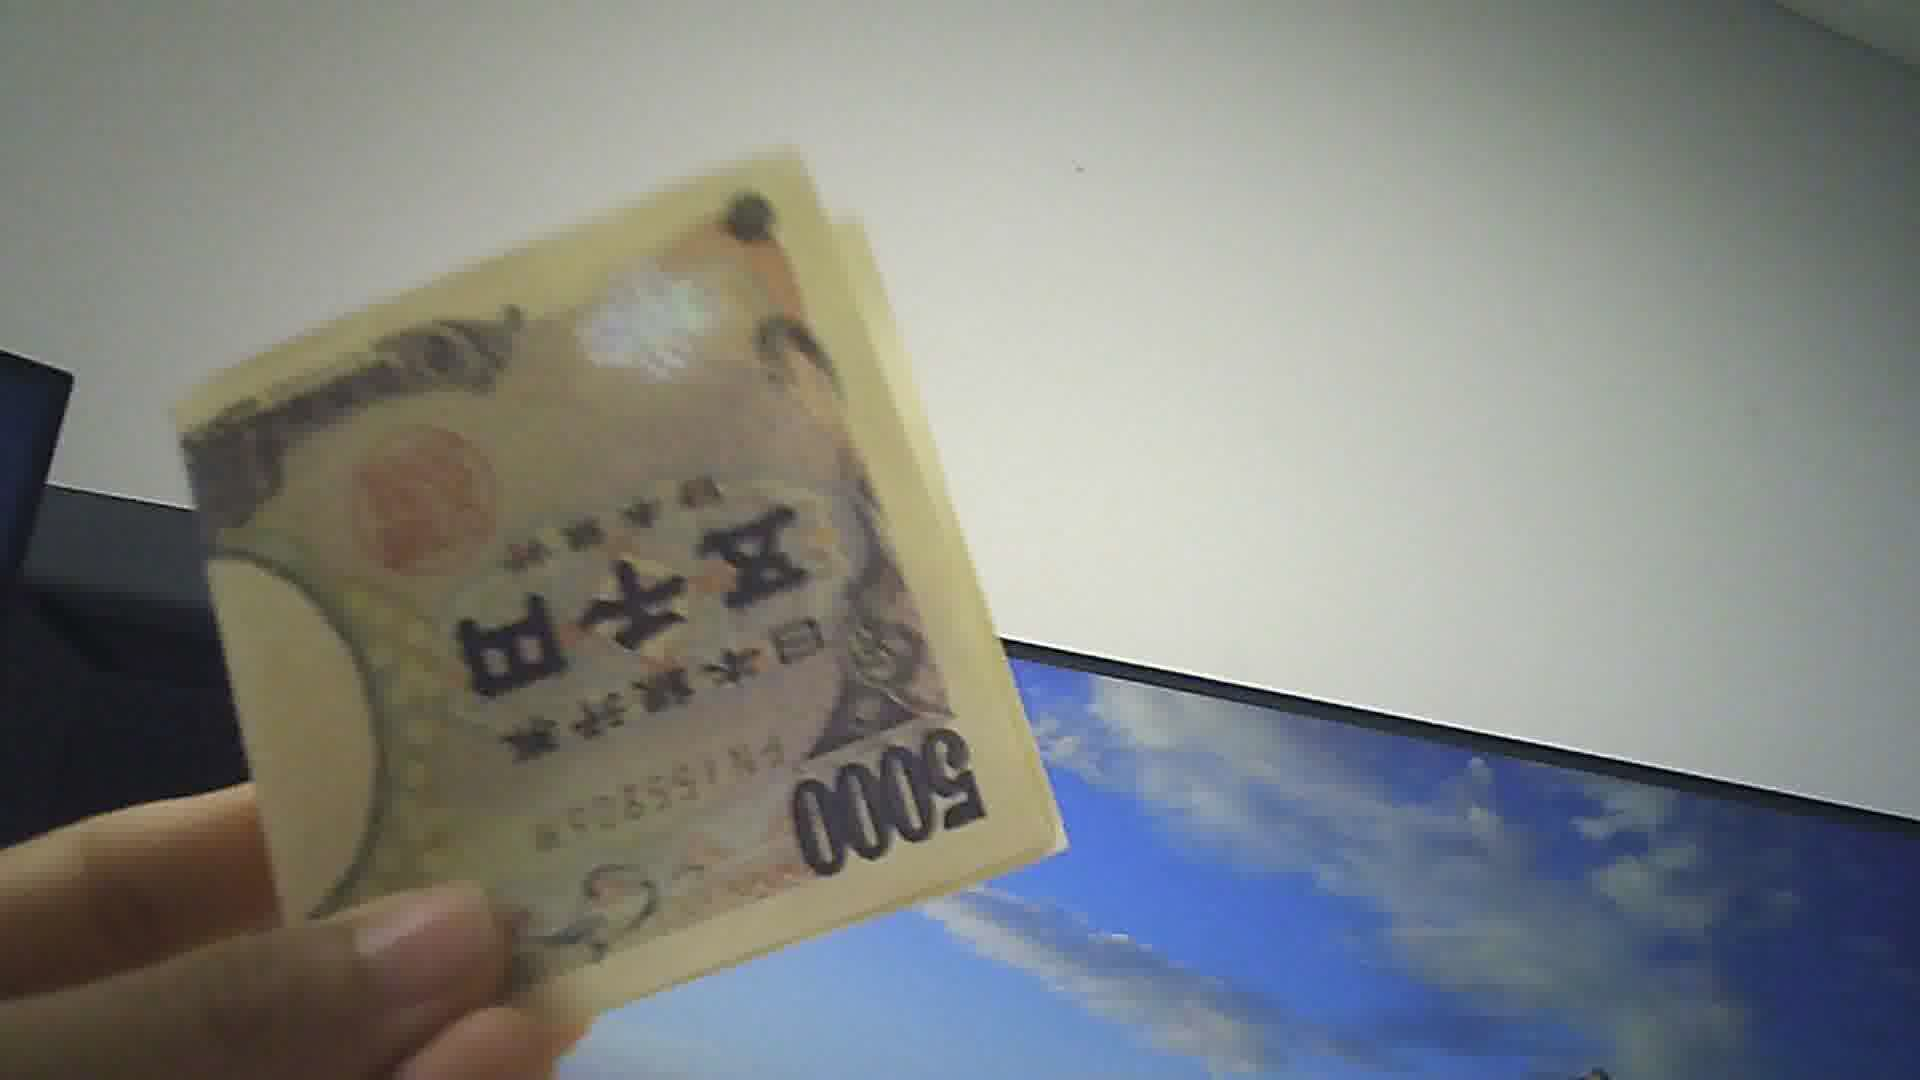5,000 Yen: (165, 156, 1051, 1011)
